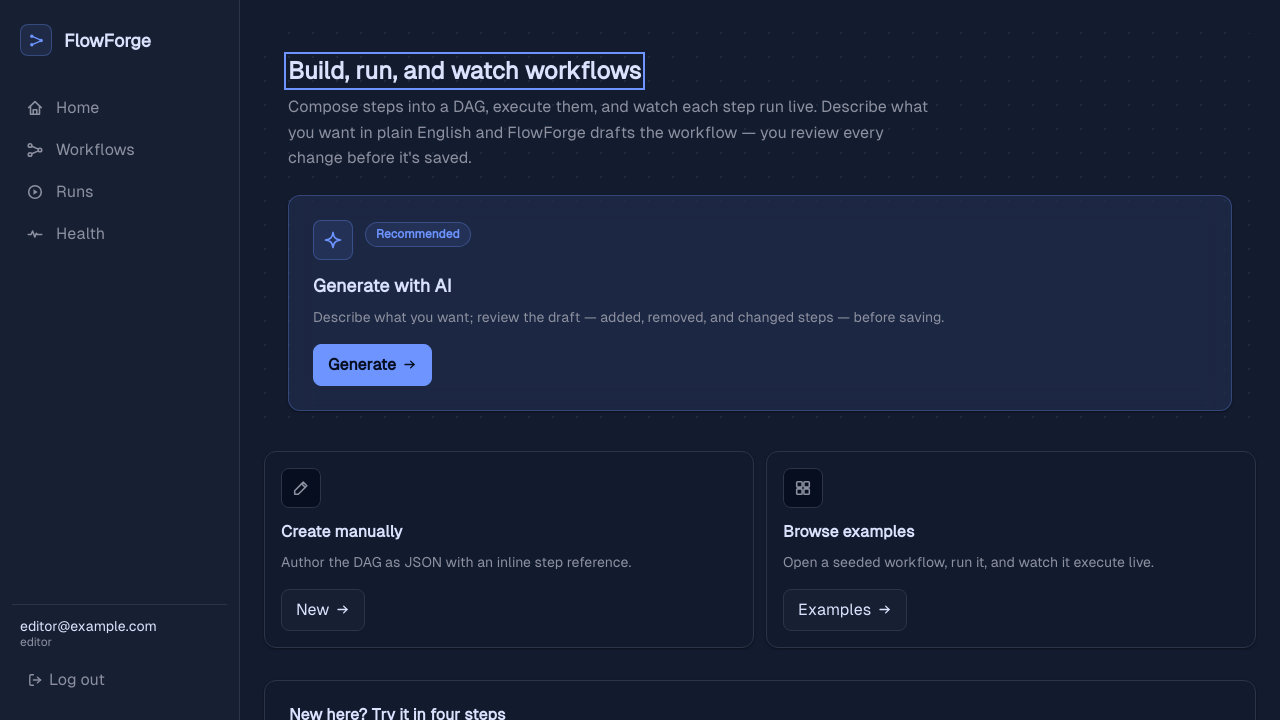
Test: App routing + auth › logs out and returns to /login
Expected: the heading "Build, run, and watch workflows" is shown, [288,56,641,86]
What coordinates should you click on to do the following:
click the button "Log out"
I would click on:
 (120, 682)
Its box is [12,659,227,704].
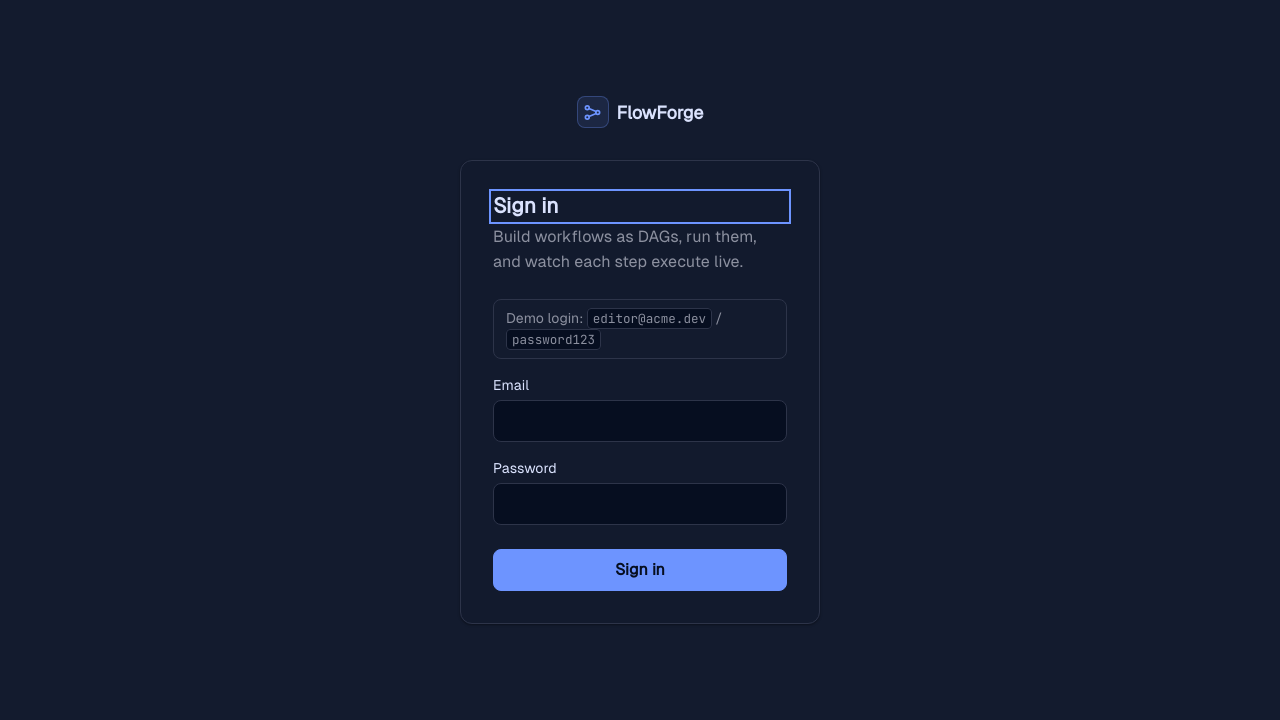
Now the heading "Sign in" is shown, box [493,194,558,218]
